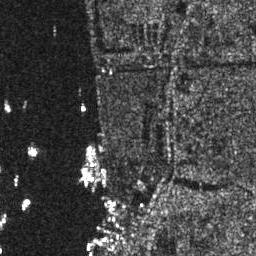ship: (81, 167, 91, 187), (101, 167, 109, 190), (20, 197, 31, 213), (92, 236, 104, 247), (3, 102, 12, 113)
